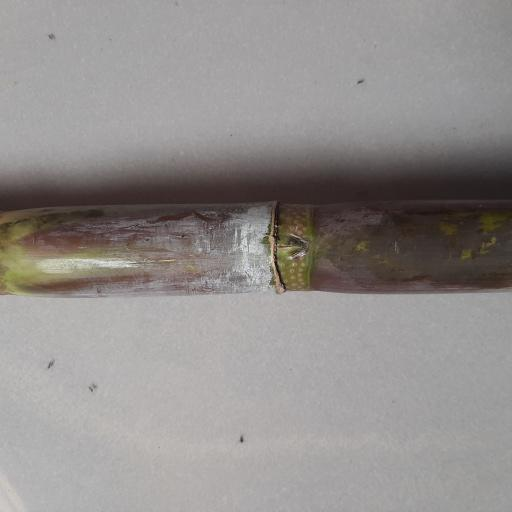Bud: (274, 233, 308, 261)
